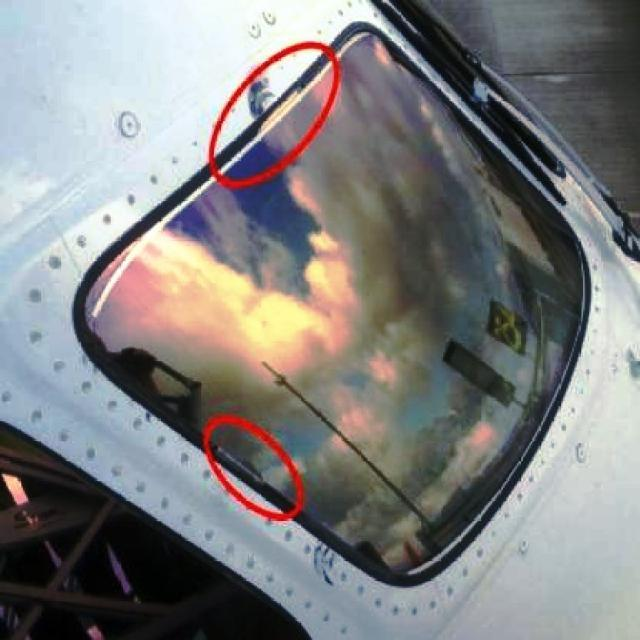crack: (313, 542, 336, 587)
